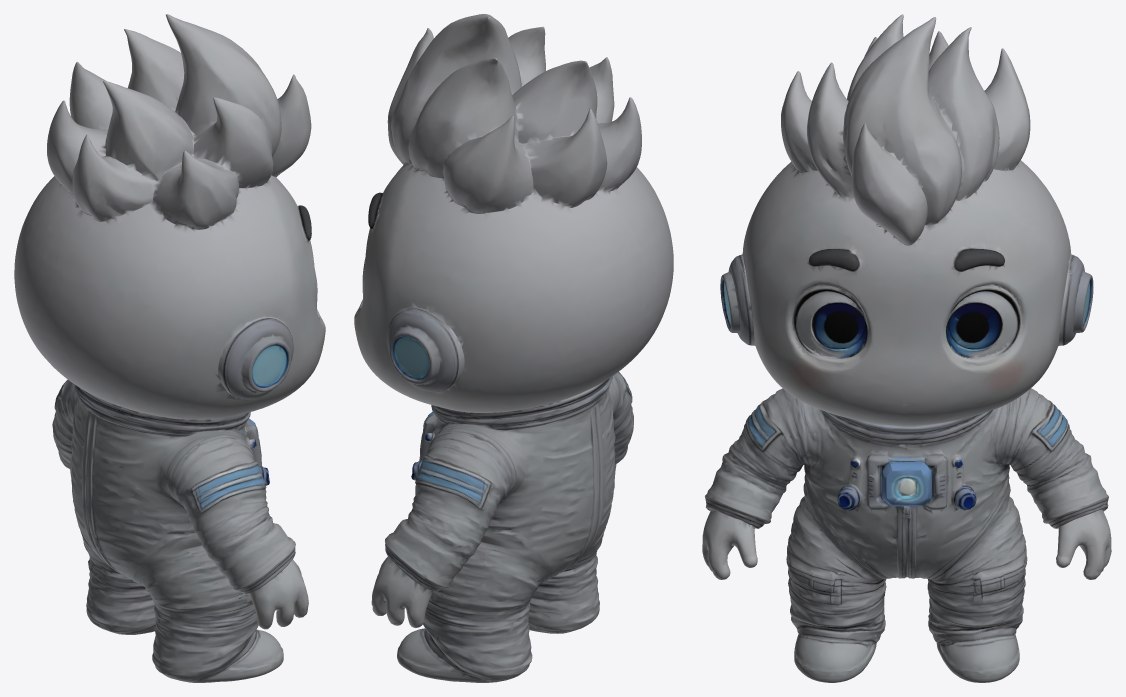
The model's file is guto_teen_super.glb.
3 renders of one model, left to right at view 1: azimuth 30°, elevation 25°; view 2: azimuth 150°, elevation 25°; view 3: azimuth 270°, elevation 25°, orthographic. The views are drawn at different scales.
Parts seen in each view (by area): view 1: tripo_node_b0331f24-7710-4fe4-99cd-49270ddd4e92; view 2: tripo_node_b0331f24-7710-4fe4-99cd-49270ddd4e92; view 3: tripo_node_b0331f24-7710-4fe4-99cd-49270ddd4e92.
Part boxes in pixels (box(x1,y1,x2,y2)): tripo_node_b0331f24-7710-4fe4-99cd-49270ddd4e92: box(14, 14, 325, 682); tripo_node_b0331f24-7710-4fe4-99cd-49270ddd4e92: box(354, 14, 673, 682); tripo_node_b0331f24-7710-4fe4-99cd-49270ddd4e92: box(702, 14, 1111, 682).
Size of the model in its own units: 0.4323 by 1 by 0.5816.
1 material, 1 textured.
